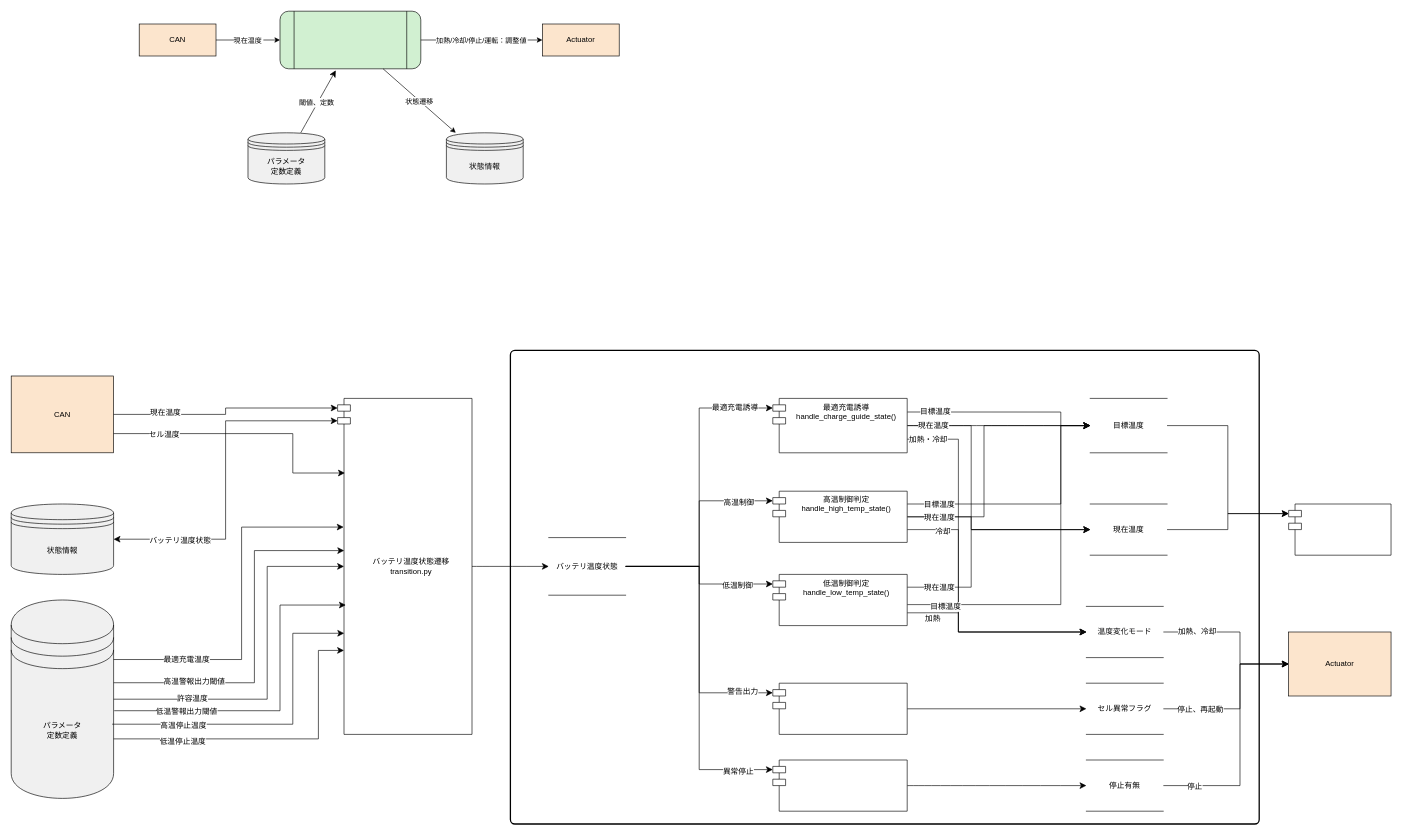
Image size: 1402x836. Some labels were removed from this diagram. Each missing label, with the box of its shape:
バッテリ温度制御: (279, 11, 421, 69)
バッテリ温度制御( handle_charge_guide_state(): (509, 349, 1260, 824)
停止判定 handle_error_state(): (772, 759, 907, 811)
加熱冷却処理 simple_pid.py: (1288, 503, 1391, 555)
警告判定 handle_alert_state (): (772, 683, 907, 734)
